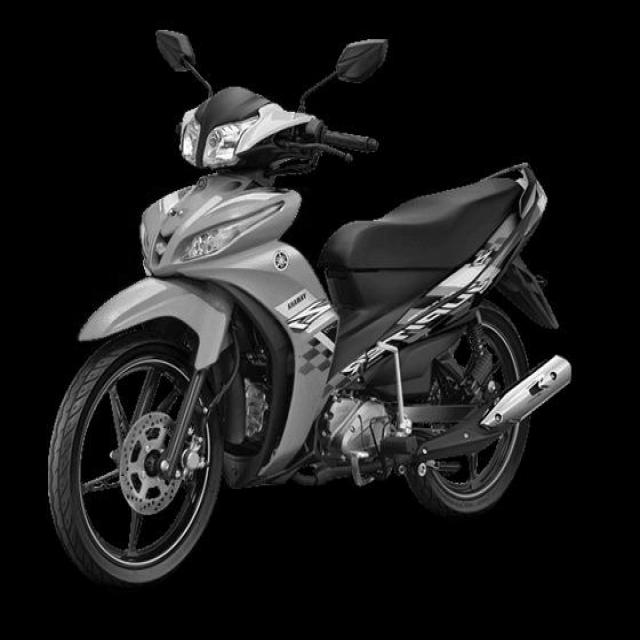Motorcycle: (48, 32, 573, 587)
